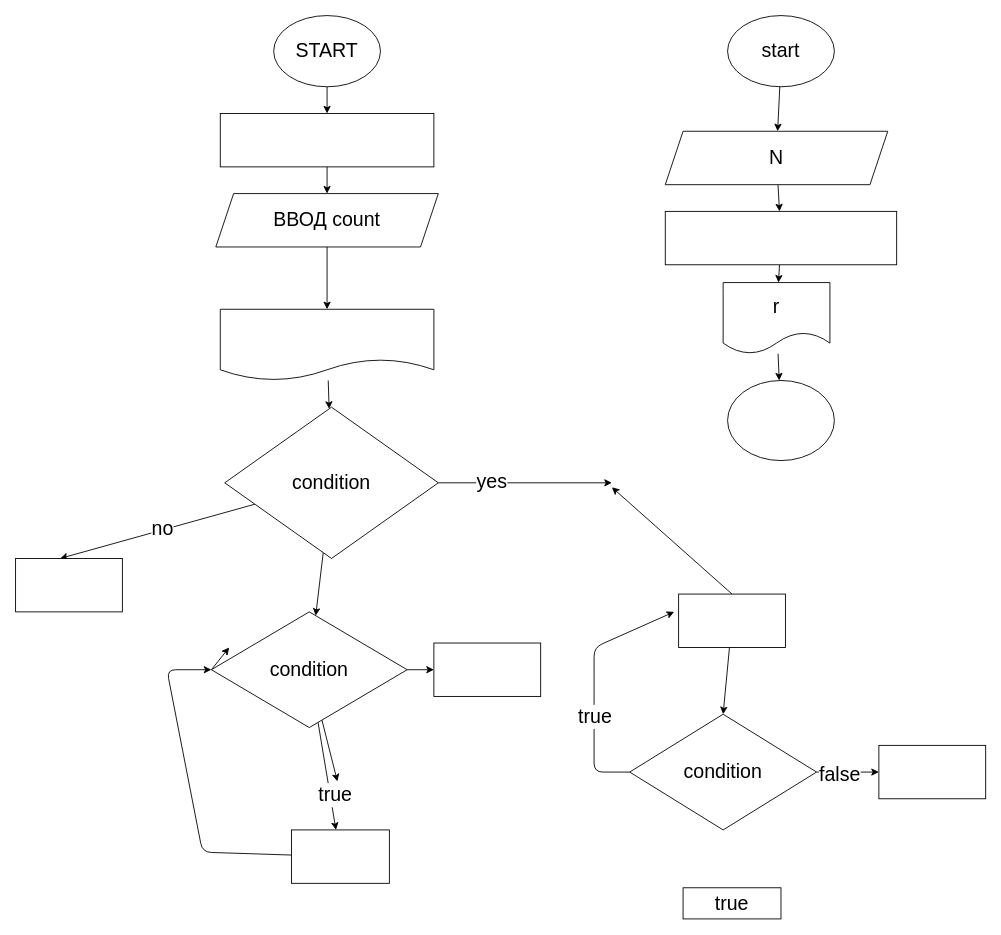
The diagram is 1001 pixels wide and 935 high, and some of its shapes have lost their labels. The centre of each missing label's shape, as x and y in pixels:
"COUNT = 0 RES = 1 * sQRT(2)" belongs at point (326, 140).
"end" belongs at point (780, 420).
"r = random(1,N)" belongs at point (780, 237).
"ВЫВОД res" belongs at point (326, 344).
